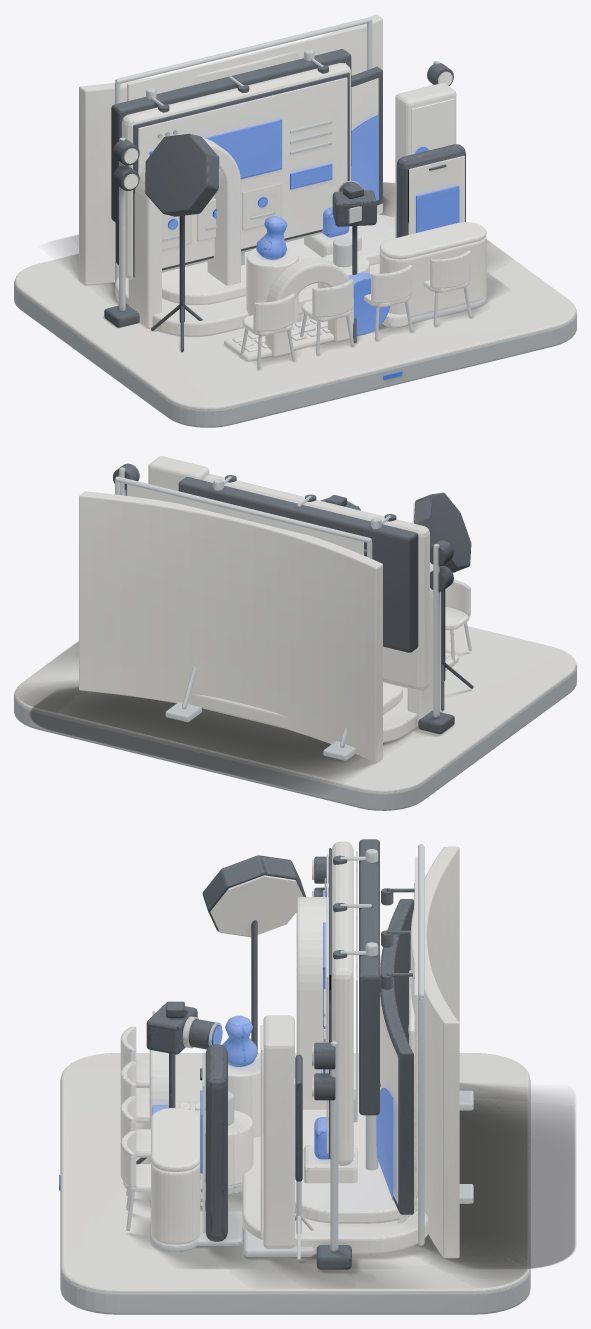
The model's file is mandegar-services-baked.glb.
The picture shows the model from 3 angles, top to bottom: view 1: azimuth 30°, elevation 25°; view 2: azimuth 150°, elevation 25°; view 3: azimuth 270°, elevation 25°; orthographic projection. The views are drawn at different scales.
Visible parts, largest first — view 1: ServicesPlatform_Mesh, ServicesDigital_Mesh, ServicesExhibition_Mesh, ServicesEvent_Mesh, ServicesEvent_Details, ServicesContent_Details, ServicesAdvertising_Details, ServicesDigital_Details, ServicesContent_Mesh, ServicesAdvertising_Mesh, ServicesExhibition_Details, ServicesEvent_GroundShadow (+1 smaller); view 2: ServicesExhibition_Mesh, ServicesPlatform_Mesh, ServicesAdvertising_Mesh, ServicesEvent_GroundShadow, ServicesExhibition_GroundShadow, ServicesDigital_GroundShadow, ServicesDigital_Mesh, ServicesContent_GroundShadow, ServicesEvent_Details, ServicesContent_Mesh, ServicesContent_Details, ServicesEvent_Mesh (+2 smaller); view 3: ServicesPlatform_Mesh, ServicesExhibition_Mesh, ServicesExhibition_GroundShadow, ServicesEvent_Mesh, ServicesContent_Details, ServicesEvent_GroundShadow, ServicesContent_GroundShadow, ServicesAdvertising_Details, ServicesEvent_Details, ServicesAdvertising_Mesh, ServicesDigital_Mesh, ServicesDigital_Details (+4 smaller).
Part boxes in pixels (x1,y1,x2,y2): ServicesPlatform_Mesh: (14, 182, 576, 427); ServicesDigital_Mesh: (122, 63, 350, 279); ServicesExhibition_Mesh: (79, 14, 486, 328); ServicesEvent_Mesh: (115, 66, 395, 336); ServicesEvent_Details: (104, 61, 471, 368); ServicesContent_Details: (145, 133, 376, 351); ServicesAdvertising_Details: (265, 83, 456, 356); ServicesDigital_Details: (224, 144, 465, 361); ServicesContent_Mesh: (115, 17, 372, 285); ServicesAdvertising_Mesh: (111, 49, 351, 224); ServicesExhibition_Details: (246, 216, 369, 323); ServicesEvent_GroundShadow: (104, 183, 478, 369); ServicesExhibition_Mesh: (79, 491, 440, 762); ServicesPlatform_Mesh: (14, 625, 576, 810); ServicesAdvertising_Mesh: (165, 475, 418, 760); ServicesEvent_GroundShadow: (18, 653, 468, 770); ServicesExhibition_GroundShadow: (30, 687, 418, 791); ServicesDigital_GroundShadow: (91, 663, 455, 756); ServicesDigital_Mesh: (202, 474, 429, 690); ServicesContent_GroundShadow: (31, 690, 470, 775); ServicesEvent_Details: (113, 463, 471, 734); ServicesContent_Mesh: (115, 476, 372, 558); ServicesContent_Details: (320, 492, 473, 710); ServicesEvent_Mesh: (191, 682, 417, 742); ServicesPlatform_Mesh: (59, 1053, 530, 1314); ServicesExhibition_Mesh: (151, 846, 459, 1258); ServicesExhibition_GroundShadow: (155, 1083, 574, 1268); ServicesEvent_Mesh: (242, 899, 428, 1254); ServicesContent_Details: (136, 855, 357, 1260); ServicesEvent_GroundShadow: (129, 1101, 527, 1282); ServicesContent_GroundShadow: (299, 1112, 574, 1267); ServicesAdvertising_Details: (149, 1015, 314, 1256); ServicesEvent_Details: (120, 856, 351, 1269); ServicesAdvertising_Mesh: (333, 839, 473, 1203); ServicesDigital_Mesh: (321, 841, 357, 1165); ServicesDigital_Details: (149, 1044, 242, 1245).
Size of the model in its own units: 4.8 by 2.62 by 4.79.
11 materials, 11 textured.
